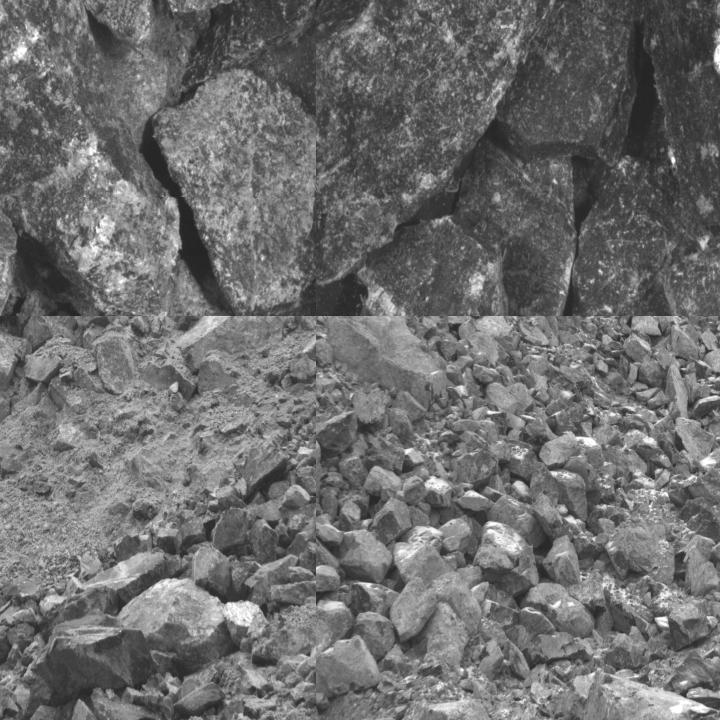stone: (316, 0, 568, 285), (0, 0, 181, 315), (155, 65, 315, 316), (497, 0, 645, 165), (570, 156, 719, 315), (458, 139, 586, 315), (642, 0, 719, 232), (343, 216, 513, 315), (29, 608, 150, 703), (324, 316, 448, 407), (119, 586, 231, 676), (127, 262, 306, 315), (195, 0, 315, 72), (37, 549, 165, 613), (581, 671, 719, 719), (608, 509, 677, 586), (473, 523, 539, 602), (521, 584, 595, 638), (316, 637, 380, 697), (429, 572, 482, 635), (388, 575, 437, 643), (487, 493, 543, 551), (424, 602, 469, 668), (92, 331, 137, 394), (245, 555, 298, 608), (316, 599, 355, 671), (341, 530, 393, 583), (668, 595, 719, 648), (662, 651, 719, 697), (452, 430, 498, 487), (394, 541, 451, 586), (244, 441, 287, 498), (316, 410, 360, 465), (681, 535, 719, 598), (224, 597, 270, 649), (0, 319, 33, 391), (190, 544, 232, 599), (550, 468, 588, 526), (91, 689, 164, 719), (143, 360, 196, 400), (600, 626, 647, 670), (530, 493, 574, 540), (371, 498, 413, 546), (172, 682, 226, 719), (542, 536, 580, 588), (678, 498, 719, 545), (675, 417, 717, 462), (356, 613, 394, 661), (352, 582, 401, 617), (407, 700, 497, 719), (366, 430, 406, 472), (502, 433, 537, 480), (352, 386, 390, 426), (214, 508, 250, 550), (539, 431, 580, 467), (666, 359, 689, 422), (520, 415, 559, 450), (173, 515, 204, 559), (251, 518, 281, 563), (437, 518, 473, 554), (0, 576, 44, 603), (531, 462, 558, 505), (270, 580, 315, 605), (364, 465, 402, 494), (485, 382, 522, 411), (316, 526, 336, 578), (671, 323, 699, 360), (427, 473, 453, 508), (623, 331, 653, 361), (638, 354, 664, 388), (69, 698, 111, 719), (0, 682, 23, 719), (249, 500, 280, 526), (316, 563, 342, 594), (691, 394, 719, 421), (6, 623, 35, 649), (74, 316, 127, 330), (316, 415, 324, 507), (282, 484, 311, 508), (631, 316, 663, 336), (316, 670, 332, 706), (298, 475, 315, 497), (168, 382, 178, 395)
